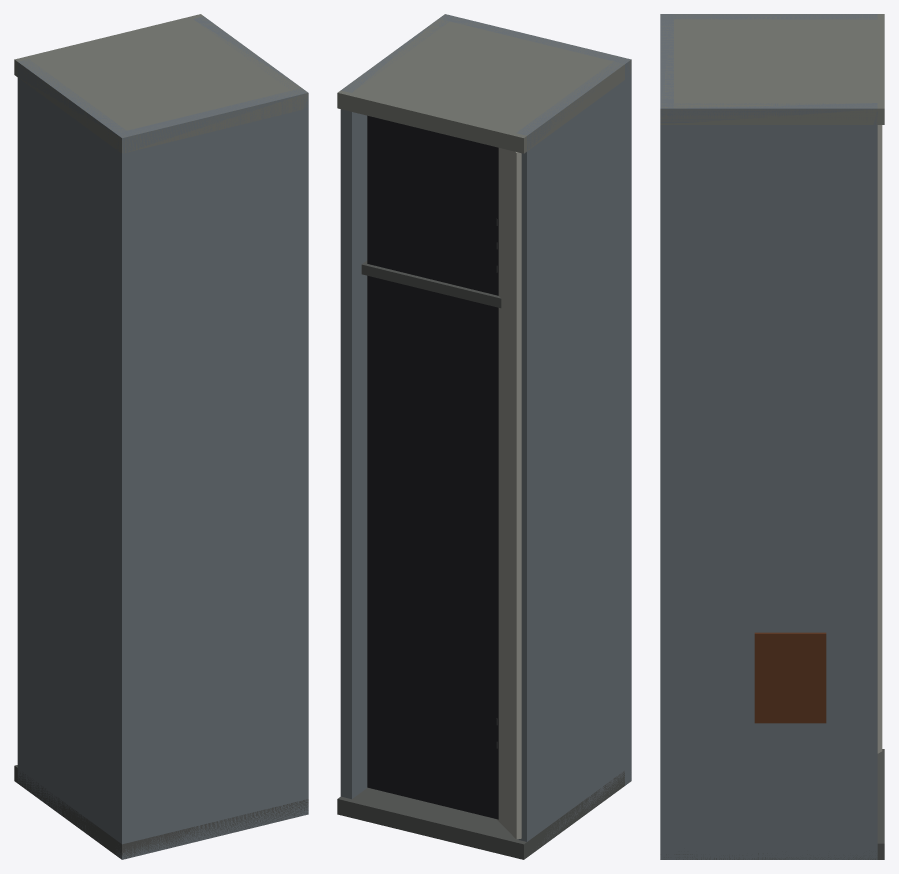
The model's file is metro_locker.glb.
3 views of the same model, side by side, from view 1: azimuth 30°, elevation 25°; view 2: azimuth 150°, elevation 25°; view 3: azimuth 270°, elevation 25° (orthographic). The views are drawn at different scales.
Visible parts, largest first — view 1: metro_locker; view 2: metro_locker; view 3: metro_locker.
Part boxes in pixels (x1,y1,x2,y2): metro_locker: (14, 14, 308, 859); metro_locker: (337, 14, 631, 859); metro_locker: (660, 14, 884, 859).
Size of what is drawn, in the model's own units: 0.507 by 1.85 by 0.5.
3 materials, 3 textured.
